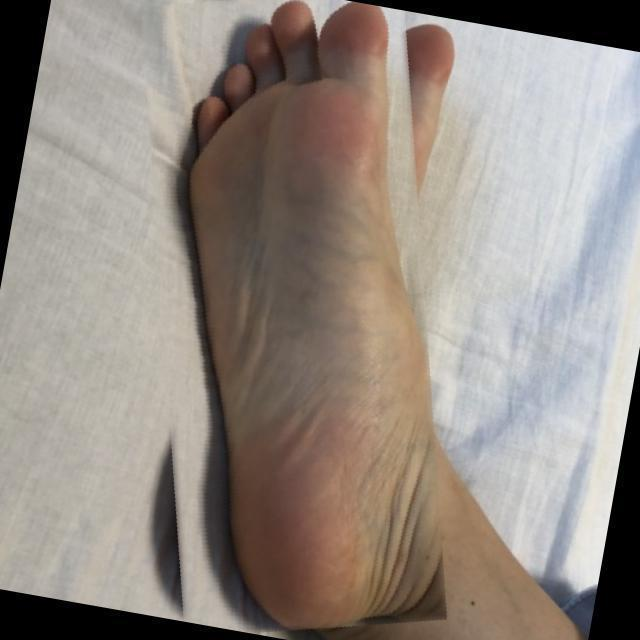No_Shoes: (166, 13, 494, 640)
